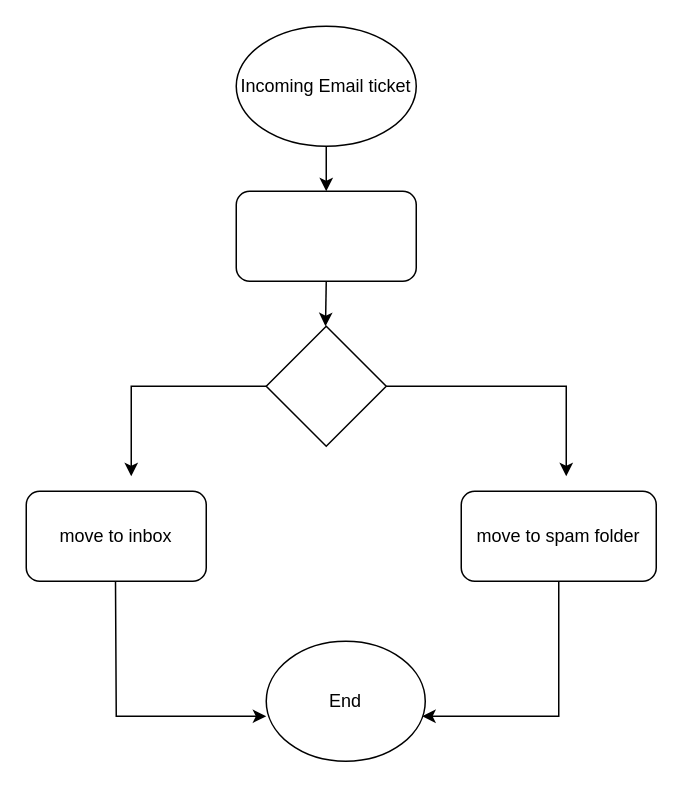
The diagram is 683 pixels wide and 800 high, and some of its shapes have lost their labels. The box of each missing label's shape, as (x1, y1, x2, y2) in pixels:
AI analyzes and categorize: (235, 190, 416, 281)
spam?: (265, 325, 386, 446)
